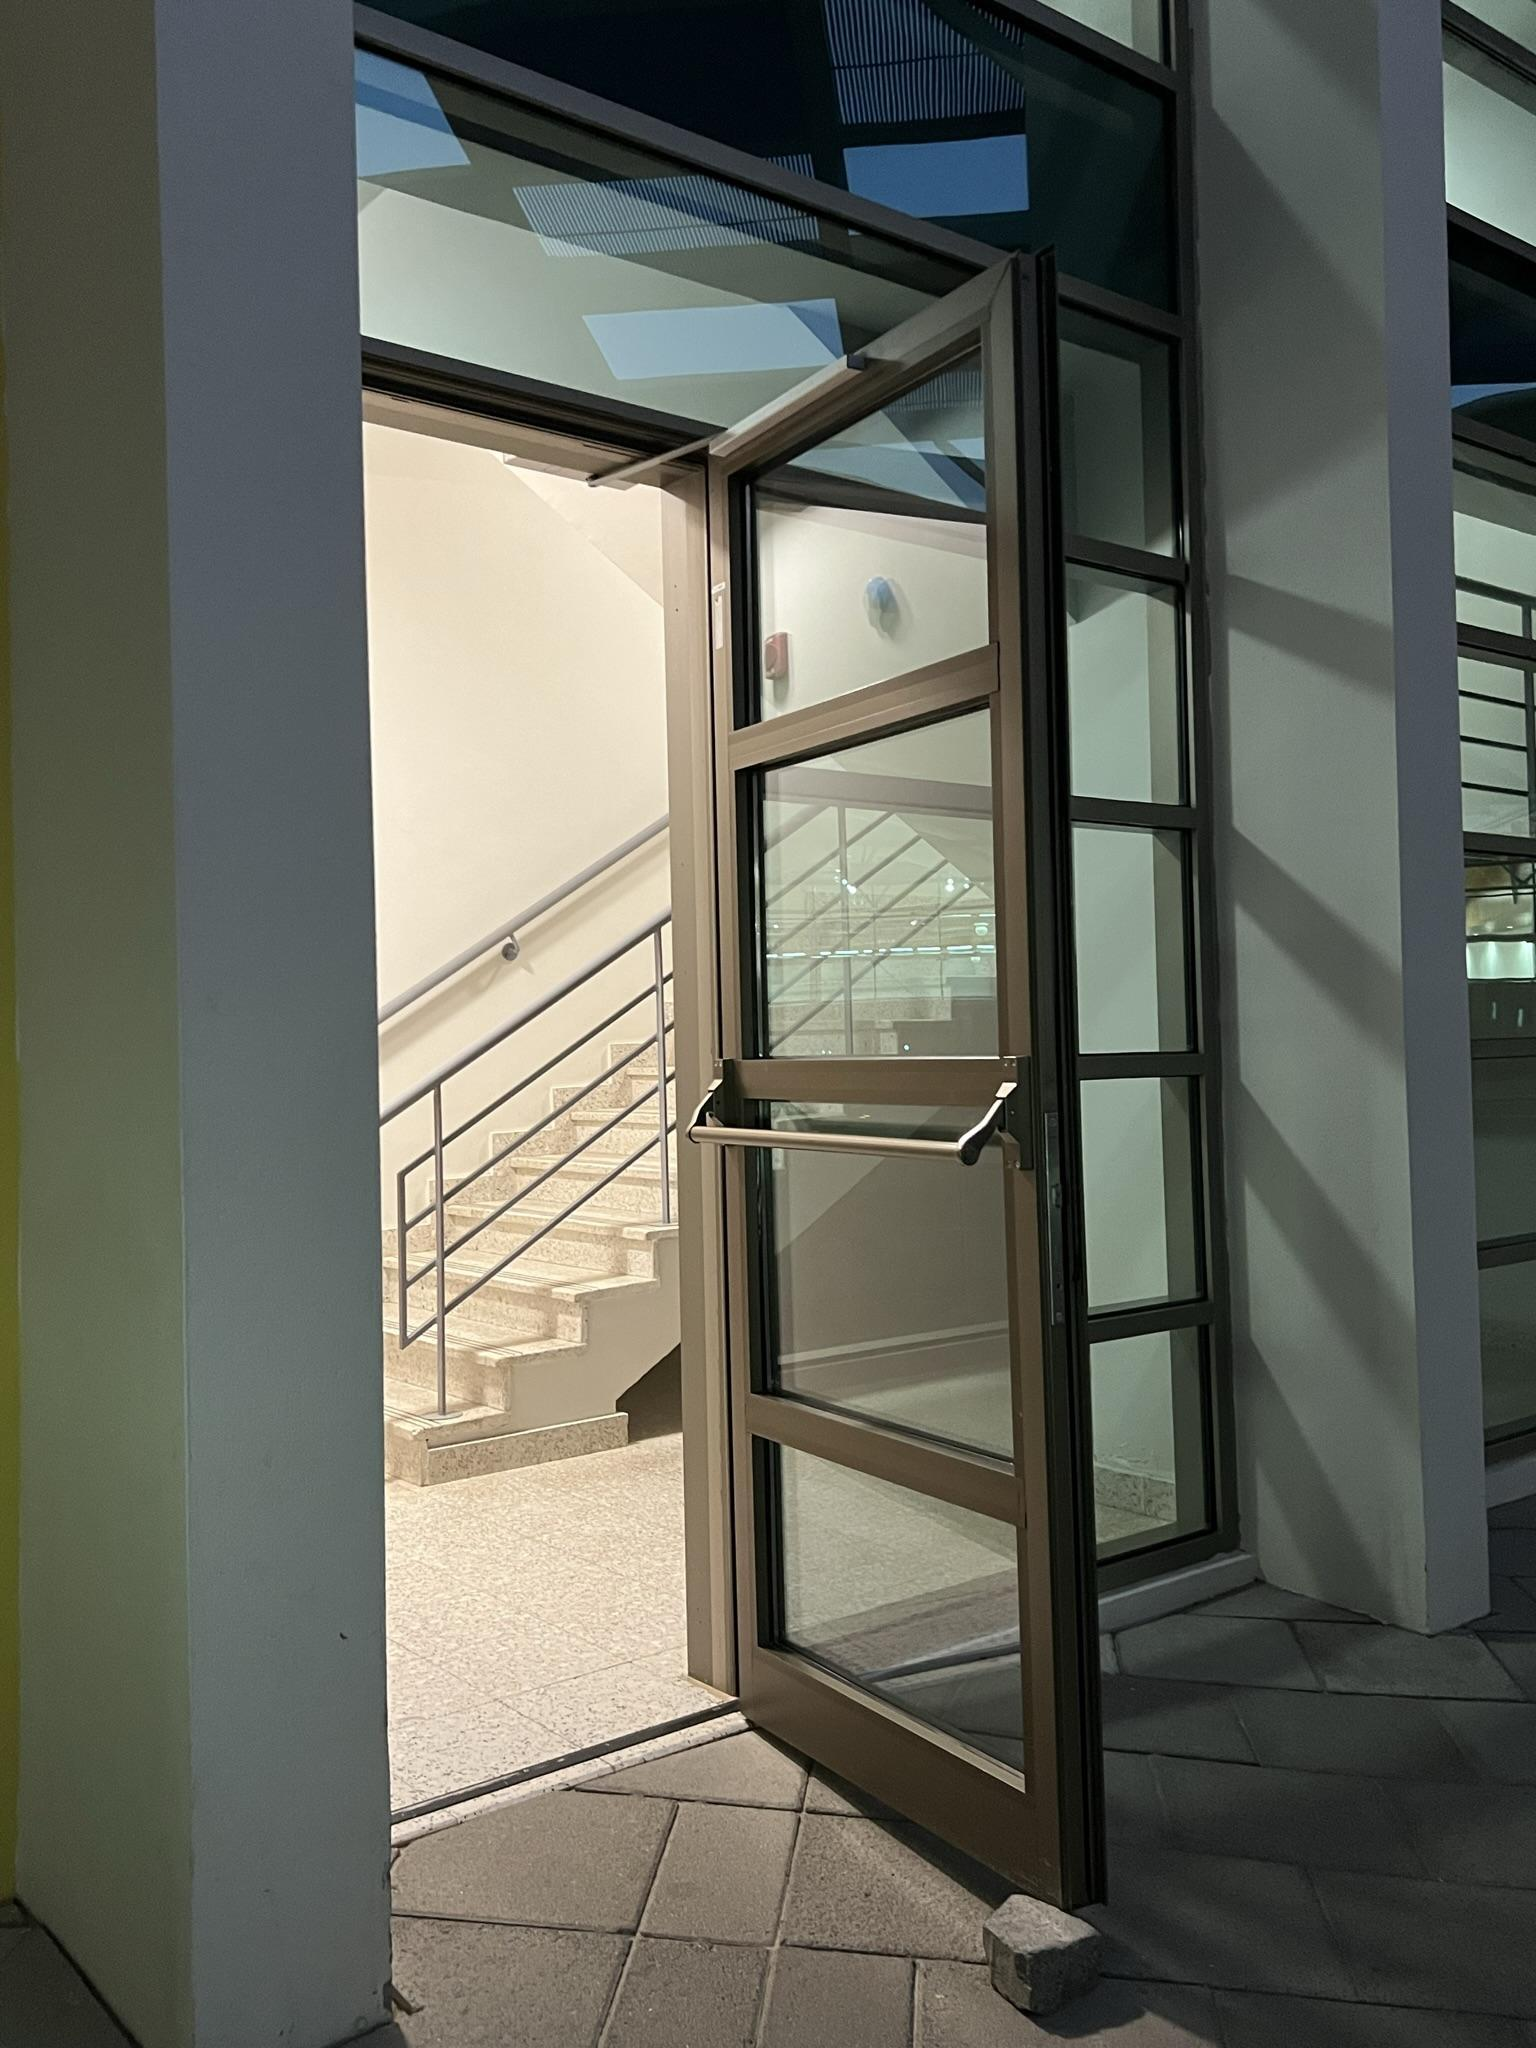door: (716, 376, 1092, 1825)
handle: (682, 1061, 1037, 1182)
